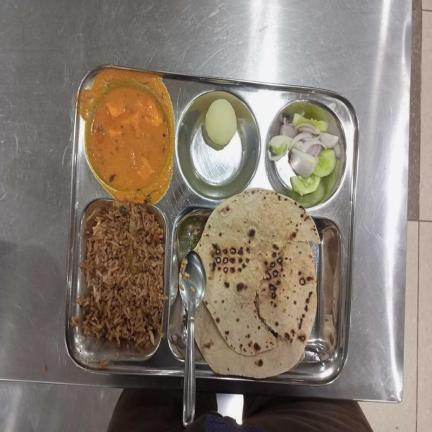Chhaina: (206, 100, 237, 145)
Fried Rice: (73, 200, 166, 348)
Paneer: (89, 84, 169, 190)
Plate: (65, 65, 361, 387)
Roti: (191, 189, 322, 378)
Salad: (268, 111, 339, 194)
